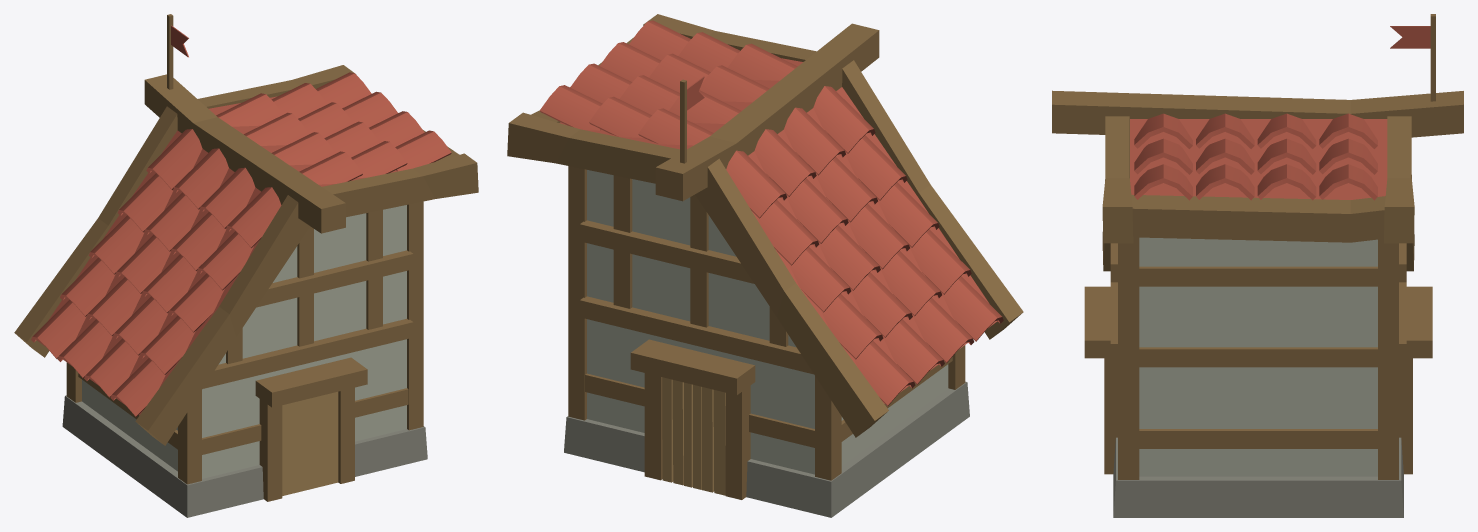
Rendered from Houses_SecondAge_2_Level1.glb.
3 views of the same model, side by side, from view 1: azimuth 30°, elevation 25°; view 2: azimuth 150°, elevation 25°; view 3: azimuth 270°, elevation 25° (orthographic). The views are drawn at different scales.
Parts seen in each view (by area): view 1: Houses_SecondAge_2_Level1; view 2: Houses_SecondAge_2_Level1; view 3: Houses_SecondAge_2_Level1.
Part boxes in pixels (x1,y1,x2,y2): Houses_SecondAge_2_Level1: (14, 14, 478, 517); Houses_SecondAge_2_Level1: (507, 14, 1023, 517); Houses_SecondAge_2_Level1: (1052, 14, 1463, 517).
Size of the model in its own units: 0.8875 by 0.9455 by 0.8113.
1 material, 1 textured.
